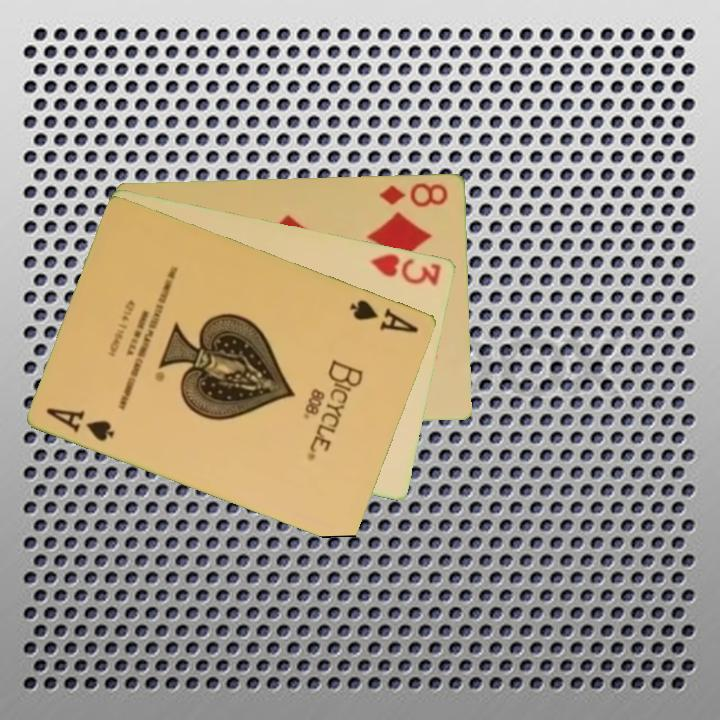3h: (366, 249, 445, 289)
8d: (376, 179, 451, 210)
As: (43, 403, 118, 444), (346, 296, 422, 336)
